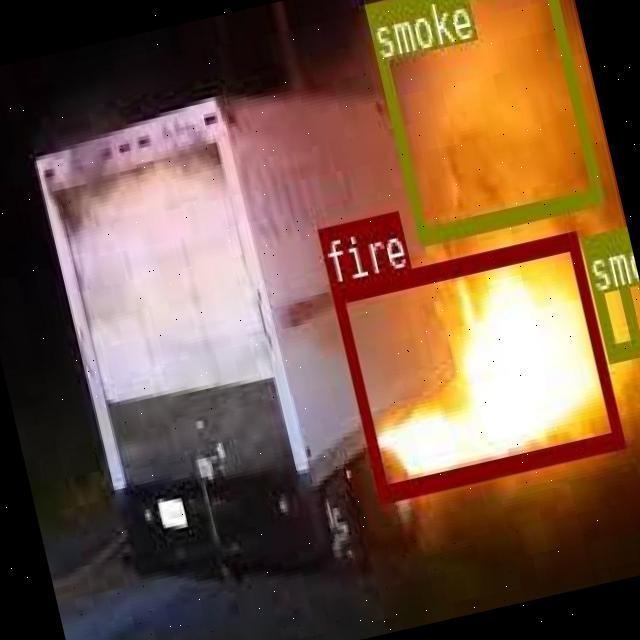fire: (328, 230, 622, 500)
smoke: (362, 0, 602, 243), (577, 227, 640, 359)
